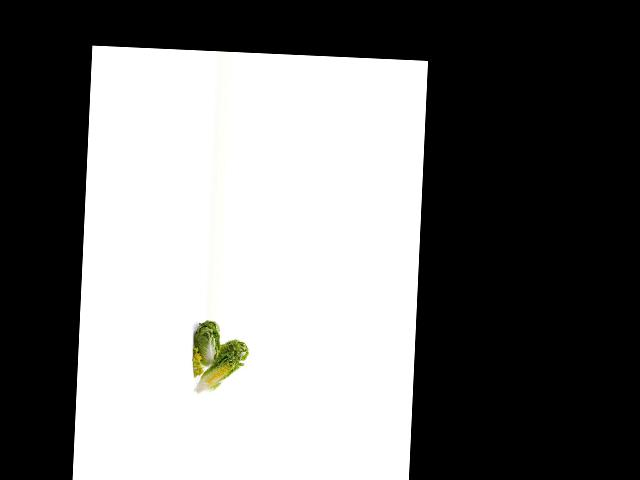lettuce: (189, 321, 222, 372)
